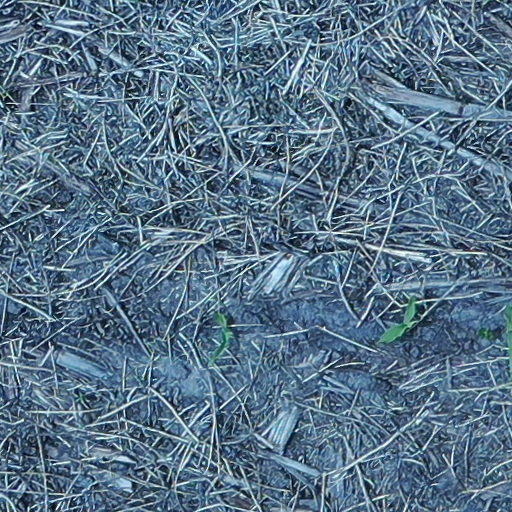planta: (379, 296, 416, 342), (211, 313, 229, 364)
